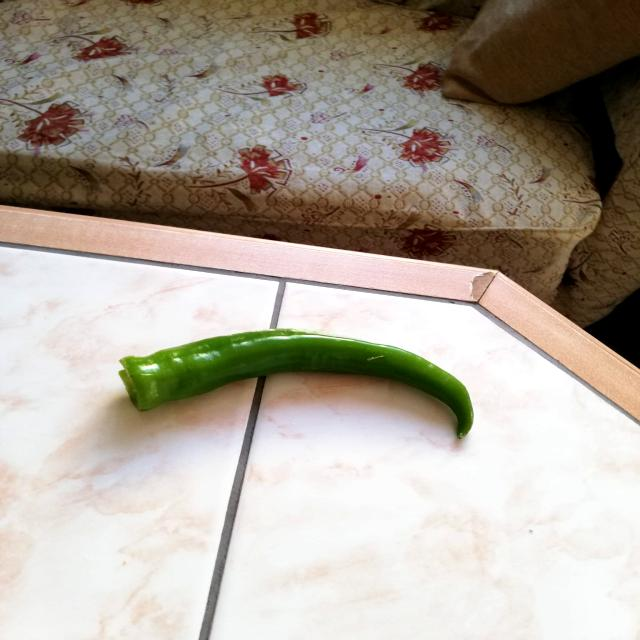green pepper: (117, 325, 476, 443)
